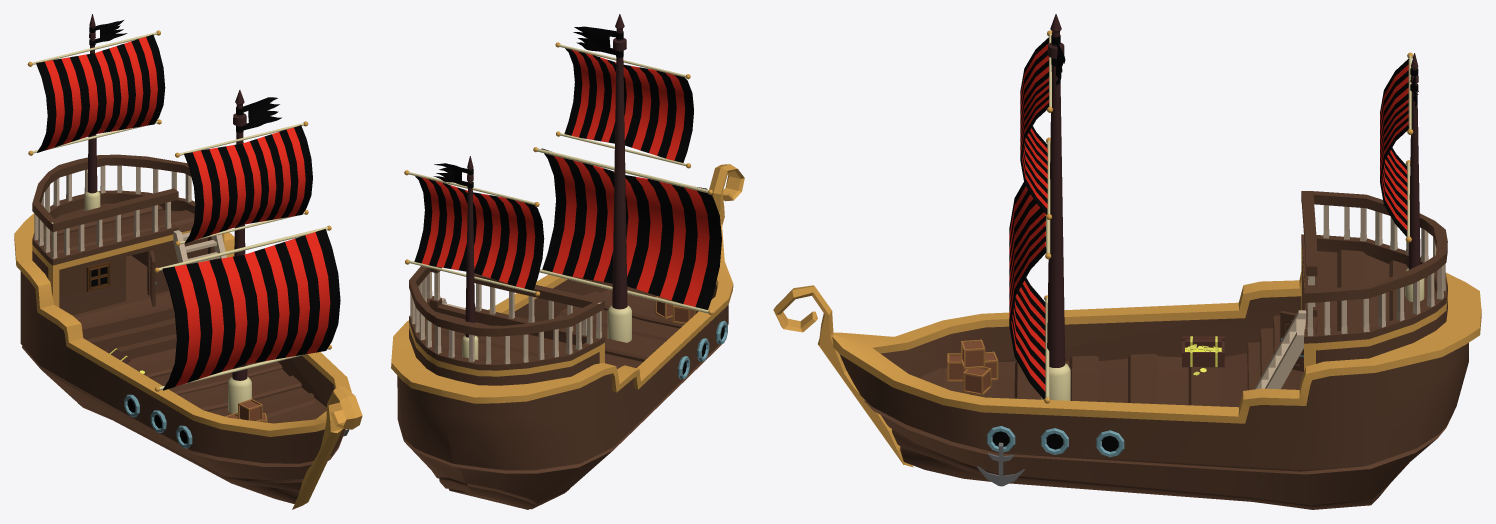
Rendered from PirateShip85.fbx.
3 renders of one model, left to right at view 1: azimuth 30°, elevation 25°; view 2: azimuth 150°, elevation 25°; view 3: azimuth 270°, elevation 25°, orthographic. The views are drawn at different scales.
Visible parts, largest first — view 1: Cube, Plane, Cube.002, Plane.002, Plane.001, Cube.001, Cube.004, Cube.035, Cylinder, Cylinder.005, Cylinder.008, Cube.044 (+5 smaller); view 2: Cube, Plane, Plane.002, Plane.001, Cube.001, Cube.002, Cylinder, Cube.004, Cylinder.005, Cube.035, Cylinder.008, Cylinder.002 (+2 smaller); view 3: Cube, Cube.001, Cube.002, Plane, Cylinder, Cube.004, Plane.002, Plane.001, Cube.035, Cylinder.005, Cube.041, Cube.033.
Boxes of the visible parts, bbox=[...] form: Cube: bbox=[20, 271, 345, 503]; Plane: bbox=[162, 229, 340, 390]; Cube.002: bbox=[32, 190, 224, 317]; Plane.002: bbox=[36, 34, 165, 152]; Plane.001: bbox=[184, 125, 312, 243]; Cube.001: bbox=[14, 213, 351, 436]; Cube.004: bbox=[32, 154, 191, 231]; Cube.035: bbox=[292, 386, 362, 509]; Cylinder: bbox=[228, 90, 251, 413]; Cylinder.005: bbox=[84, 14, 100, 210]; Cylinder.008: bbox=[243, 97, 281, 130]; Cube.044: bbox=[86, 261, 110, 291]; Cube: bbox=[397, 276, 728, 509]; Plane: bbox=[541, 148, 721, 309]; Plane.002: bbox=[414, 176, 544, 290]; Plane.001: bbox=[564, 48, 693, 162]; Cube.001: bbox=[391, 222, 733, 403]; Cube.002: bbox=[409, 296, 604, 385]; Cylinder: bbox=[607, 14, 631, 342]; Cube.004: bbox=[409, 266, 604, 336]; Cylinder.005: bbox=[462, 156, 478, 359]; Cube.035: bbox=[709, 164, 744, 225]; Cylinder.008: bbox=[573, 26, 615, 55]; Cylinder.002: bbox=[536, 148, 708, 193]; Cube: bbox=[839, 296, 1468, 509]; Cube.001: bbox=[832, 272, 1481, 423]; Cube.002: bbox=[1301, 234, 1447, 371]; Plane: bbox=[1009, 182, 1046, 399]; Cylinder: bbox=[1041, 14, 1070, 400]; Cube.004: bbox=[1301, 191, 1447, 302]; Plane.002: bbox=[1380, 58, 1408, 236]; Plane.001: bbox=[1020, 37, 1048, 214]; Cube.035: bbox=[773, 285, 913, 467]; Cylinder.005: bbox=[1405, 53, 1424, 301]; Cube.041: bbox=[1182, 341, 1224, 367]; Cube.033: bbox=[1265, 332, 1304, 389].
Bounding box in the file's own units: 1451 × 2699 × 3668.
